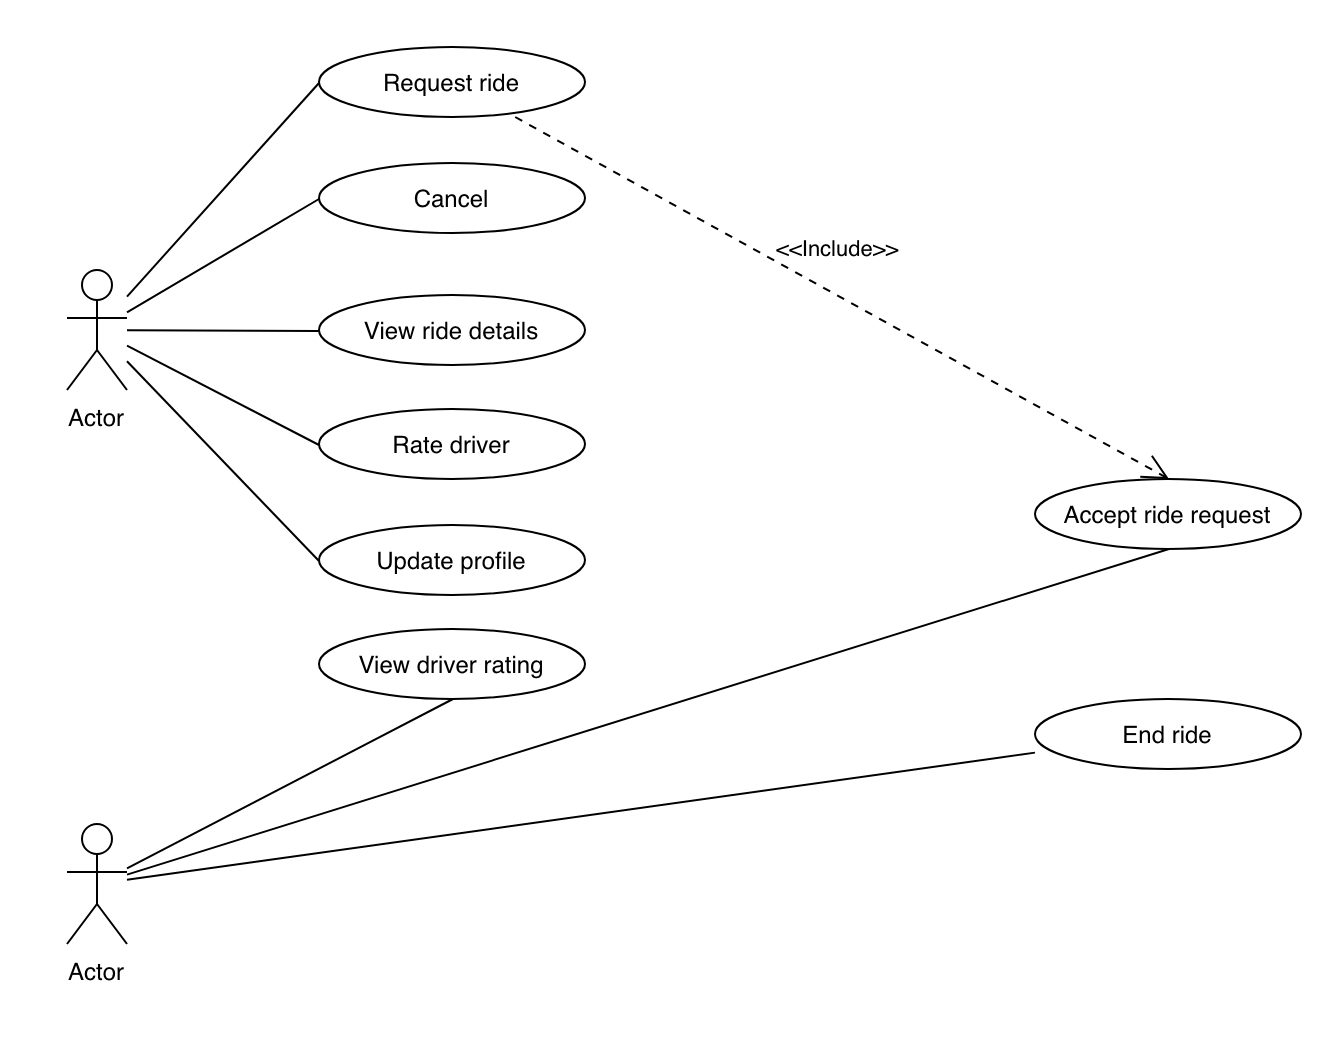actor: (62, 816, 133, 948), (62, 263, 131, 394)
association: (128, 547, 1162, 876), (515, 111, 1168, 482), (130, 748, 1036, 880), (125, 699, 447, 868), (125, 356, 322, 567), (127, 80, 316, 298), (130, 194, 318, 312), (124, 339, 321, 451), (127, 320, 316, 340)
text: (355, 648, 551, 683), (379, 419, 531, 463), (1059, 500, 1277, 530), (357, 314, 546, 349), (374, 542, 532, 576), (375, 65, 526, 97), (772, 229, 905, 265), (398, 181, 499, 217), (1114, 720, 1219, 752), (64, 957, 133, 989), (64, 406, 133, 430)
use_case: (1033, 694, 1306, 774), (318, 403, 592, 482), (315, 290, 591, 368), (316, 159, 589, 236), (318, 522, 588, 599), (1030, 475, 1303, 552), (315, 44, 591, 120), (316, 626, 587, 702)
